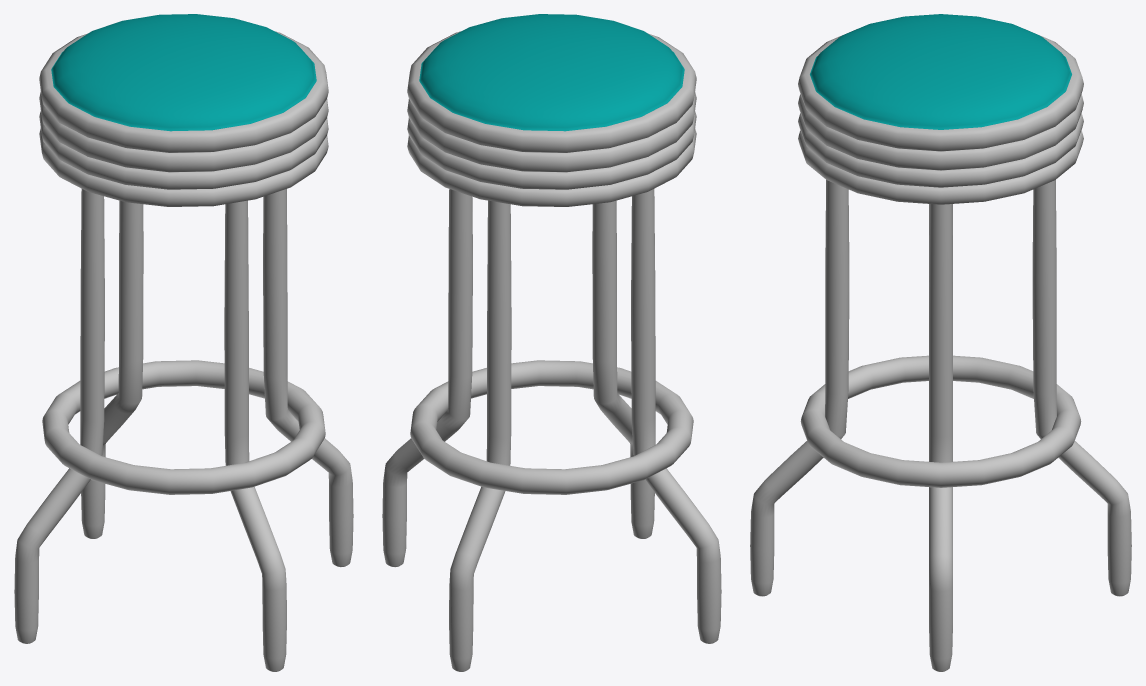
Rendered from BarStoel.fbx.
3 renders of one model, left to right at view 1: azimuth 30°, elevation 25°; view 2: azimuth 150°, elevation 25°; view 3: azimuth 270°, elevation 25°, orthographic.
Parts seen in each view (by area): view 1: Chair; view 2: Chair; view 3: Chair.
Boxes of the visible parts, box(x1,y1,x2,y2) form: Chair: box(14, 14, 353, 671); Chair: box(382, 14, 721, 671); Chair: box(750, 14, 1131, 671).
Size of the model in its own units: 2.99 by 4.72 by 2.99.
